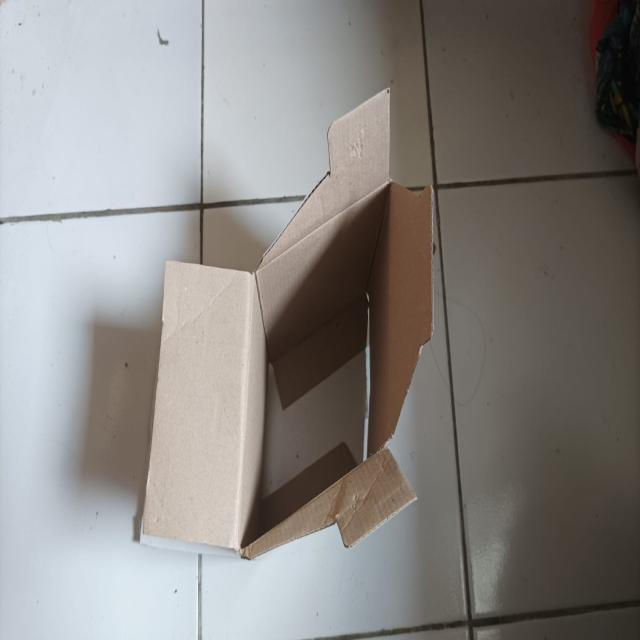Organik: (143, 91, 433, 560)
